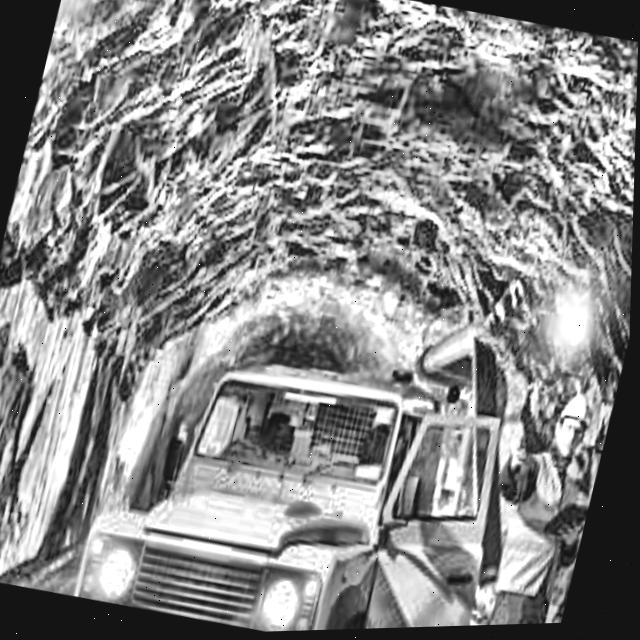light_vehicle: (56, 276, 542, 638)
